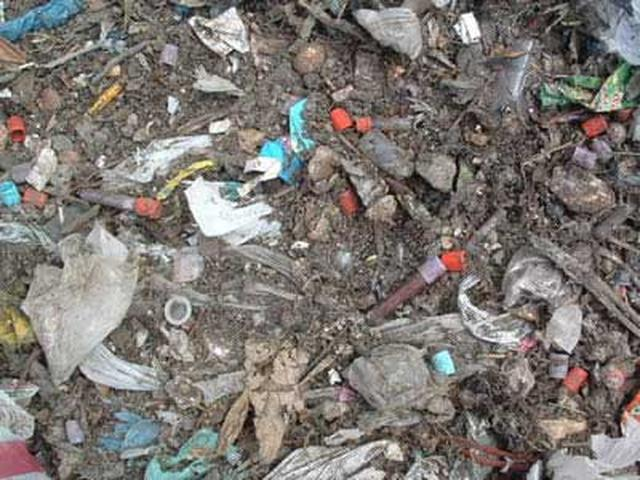garbage: (9, 17, 640, 467)
